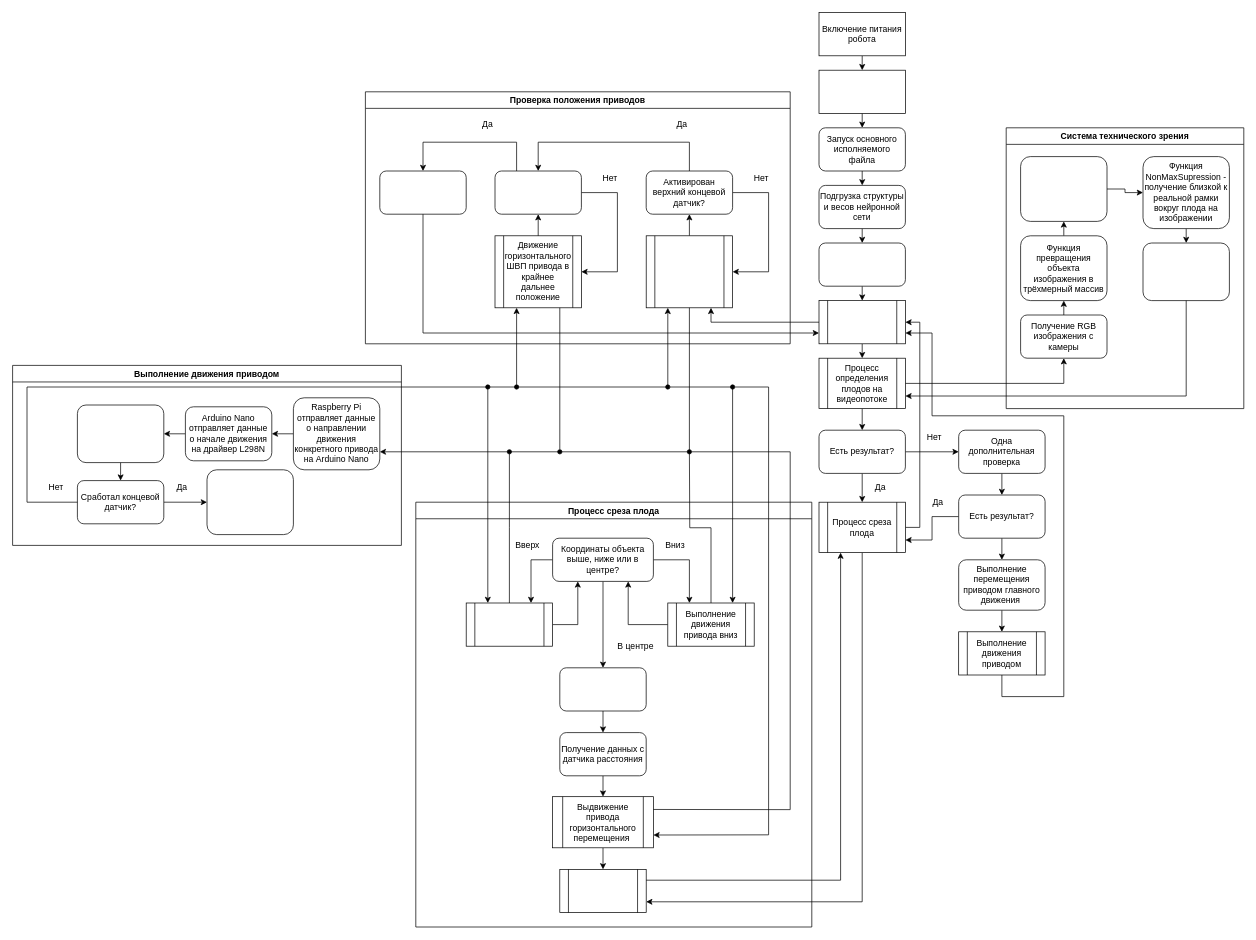
This 1256x940 diagram has some shape labels left out. The shapes that lost their labels are listed below. From the top down, each one's centre as x and y in pixels, then its label:
At point 861,91: "Подача питания на контроллеры. Запуск Raspberry Pi и Arduino Nano".
At point 422,192: "Закончить процесс проверки".
At point 537,192: "Активирован дальний концевой датчик?".
At point 1063,188: "Функция model.predict - выполнение обработки изображения".
At point 689,271: "Движение вертикального ШВП привода в крайнее верхнее положение".
At point 861,264: "Подгрузка драйвера видеокамеры".
At point 1185,271: "Функция получения координат центра объекта на изображении".
At point 861,322: "Процесс проверки положения приводов".
At point 120,433: "Драйвер двигателя L298N управляет двигателем постоянного тока JGA 25".
At point 249,502: "Остановка двигателя, вывод сообщения о недостижимости цели схвата".
At point 509,624: "Выполнение движения привода вверх".
At point 602,689: "Координаты объекта в центре".
At point 602,891: "Выполнение среза плода".
